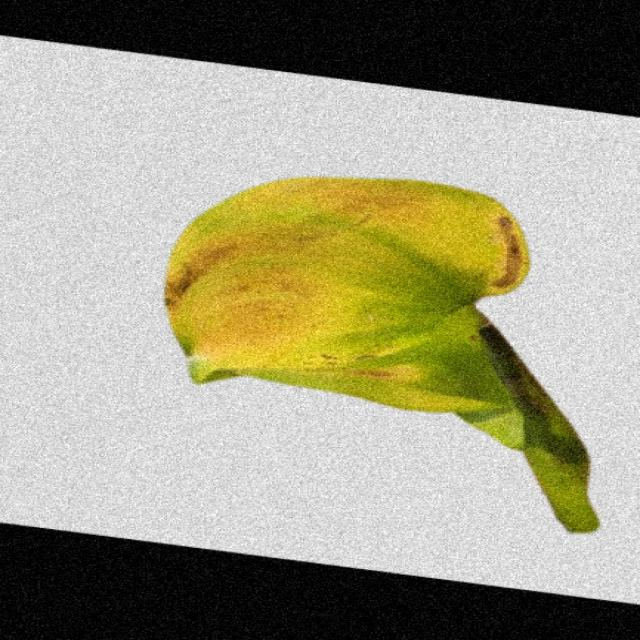daun berpenyakit kuning: (165, 178, 600, 532)
